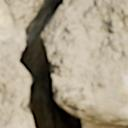broken_brick: (43, 0, 127, 125), (0, 0, 29, 127)
crack: (2, 0, 126, 127)
